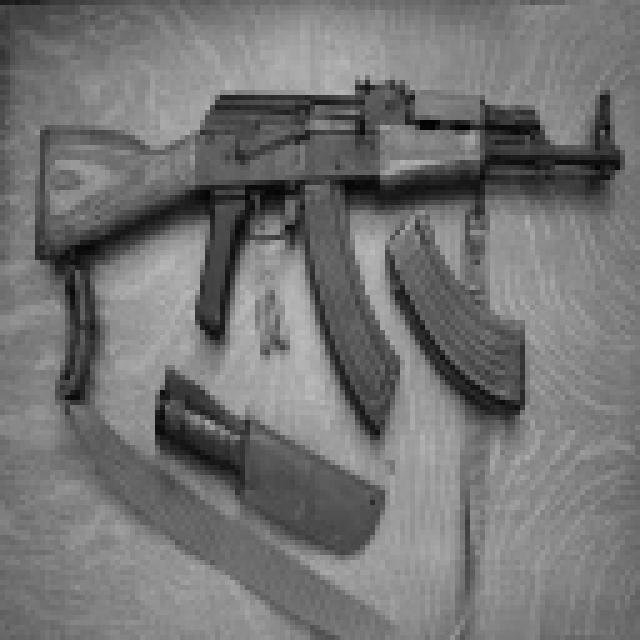Rifle: (0, 55, 640, 442)
